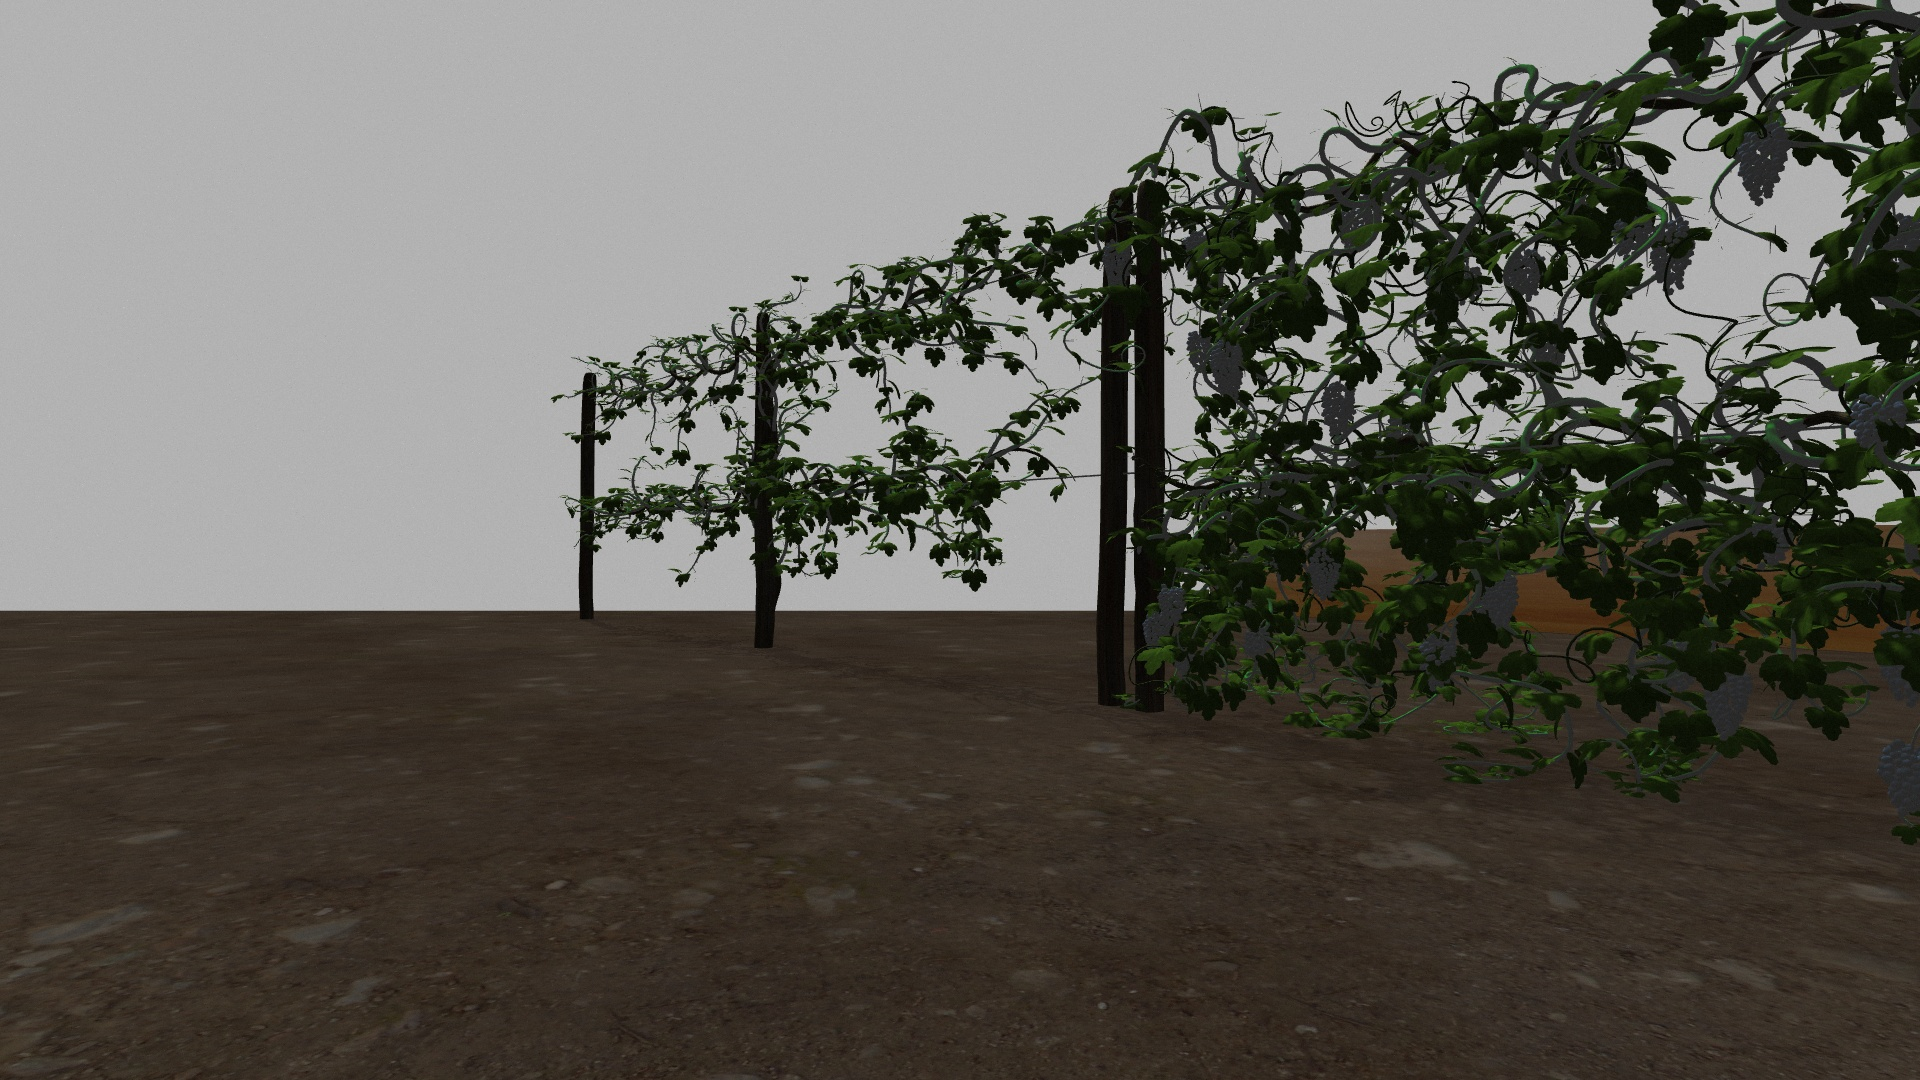grape: (1738, 127, 1788, 204), (1851, 394, 1905, 462), (1704, 667, 1749, 741), (1876, 738, 1916, 818), (1652, 219, 1693, 294), (1482, 574, 1520, 636), (1211, 340, 1244, 400), (1321, 382, 1356, 438), (1307, 549, 1341, 601), (1506, 252, 1543, 301), (1611, 218, 1651, 261), (1102, 243, 1134, 286), (1420, 632, 1458, 665), (1142, 612, 1170, 651), (1185, 334, 1215, 371), (1159, 583, 1184, 625), (1242, 628, 1271, 661)
